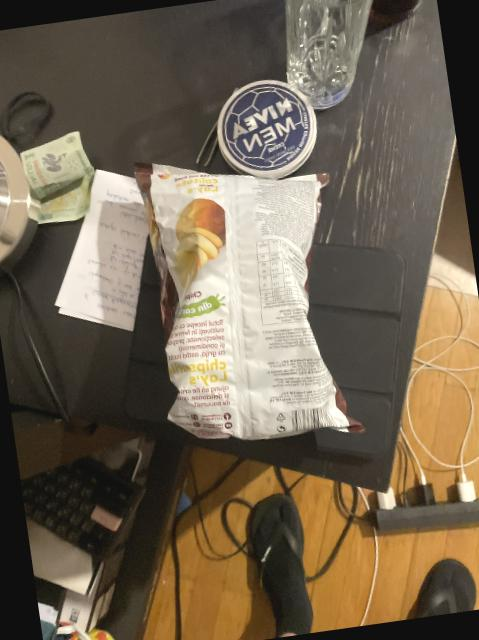Lays Beef Grilled Ribs 125g: (128, 143, 364, 460)
